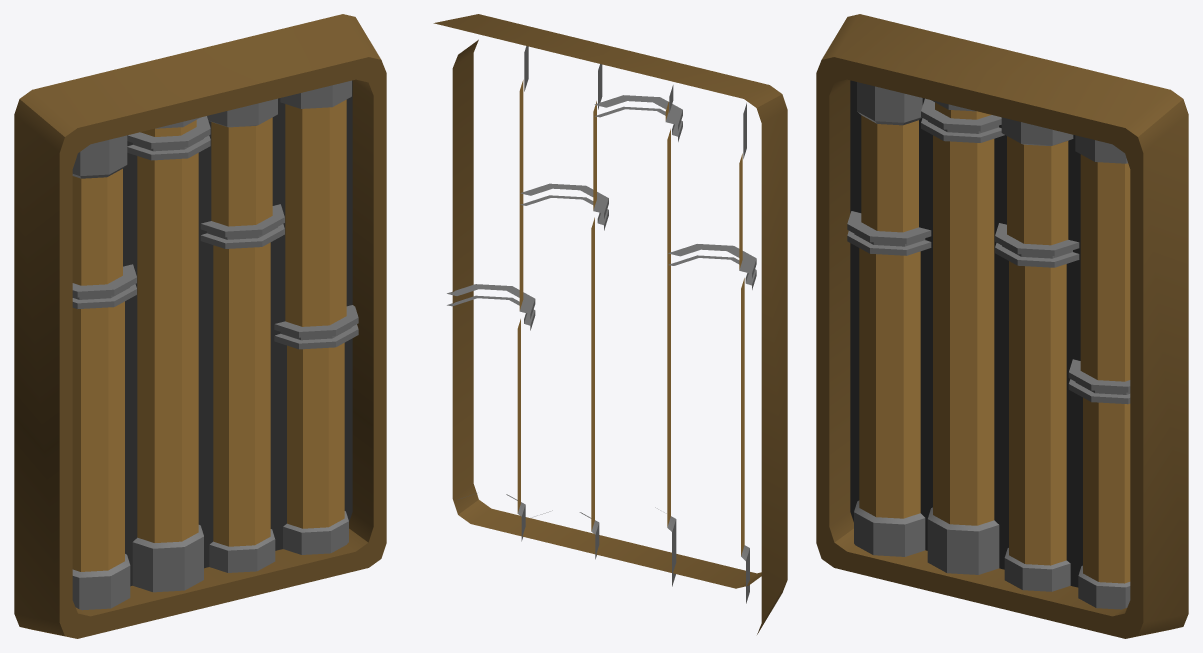
The model's file is Details_Pipes_Medium.glb.
The picture shows the model from 3 angles, left to right: view 1: azimuth 30°, elevation 25°; view 2: azimuth 150°, elevation 25°; view 3: azimuth 330°, elevation 25°; orthographic projection.
Visible parts, largest first — view 1: Details_Pipes_Medium; view 2: Details_Pipes_Medium; view 3: Details_Pipes_Medium.
Boxes of the visible parts, <box> form: Details_Pipes_Medium: <box>14,14,386,638</box>; Details_Pipes_Medium: <box>433,14,787,634</box>; Details_Pipes_Medium: <box>816,14,1188,638</box>.
Size of the model in its own units: 0.5143 by 0.7659 by 0.0932.
